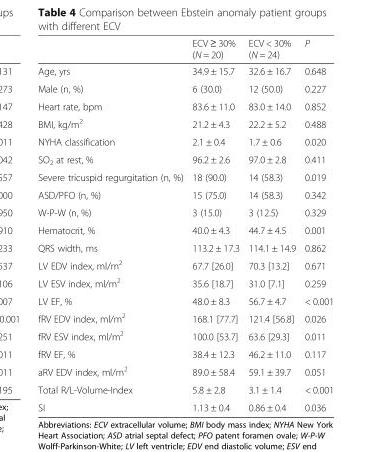table: (37, 36, 333, 412)
table column: (37, 36, 187, 412), (187, 36, 243, 412), (243, 36, 299, 412), (299, 36, 333, 412)
table column header: (37, 36, 333, 62)
table row: (37, 36, 333, 62), (37, 326, 333, 345), (37, 361, 333, 380), (37, 79, 333, 97), (37, 114, 333, 132), (37, 132, 333, 150), (37, 150, 333, 168), (37, 185, 333, 203), (37, 203, 333, 221), (37, 255, 333, 273), (37, 273, 333, 291), (37, 308, 333, 326), (37, 380, 333, 398), (37, 62, 333, 79), (37, 97, 333, 114), (37, 168, 333, 185), (37, 221, 333, 238), (37, 238, 333, 255), (37, 291, 333, 308), (37, 345, 333, 361), (37, 398, 333, 412)
